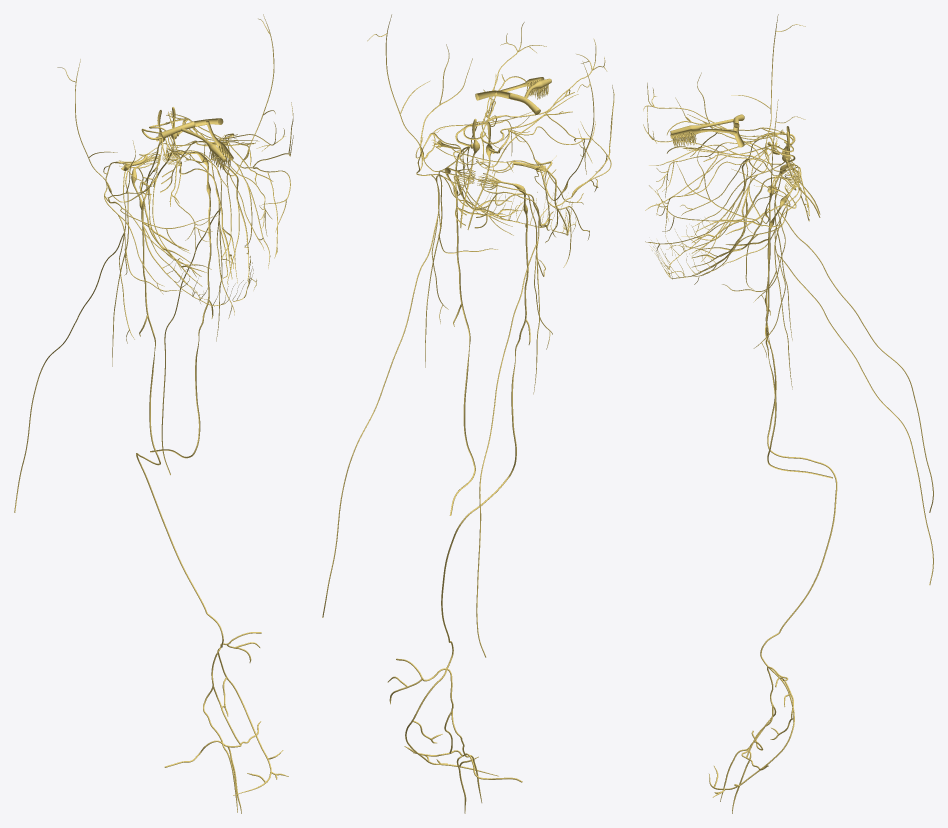
Rendered from cranial-nerves.glb.
3 views of the same model, side by side, from view 1: azimuth 30°, elevation 25°; view 2: azimuth 150°, elevation 25°; view 3: azimuth 270°, elevation 25° (orthographic). The views are drawn at different scales.
Parts seen in each view (by area): view 1: ZA_vagus_nerve_x_r, ZA_facial_nerve_vii_r, ZA_vagus_nerve_x_l, ZA_facial_nerve_vii_l, ZA_accessory_nerve_xi_r, ZA_accessory_nerve_xi_l, ZA_olfactory_nerve_i_r; view 2: ZA_vagus_nerve_x_r, ZA_accessory_nerve_xi_r, ZA_accessory_nerve_xi_l, ZA_vagus_nerve_x_l, ZA_facial_nerve_vii_l, ZA_facial_nerve_vii_r, ZA_olfactory_nerve_i_r, ZA_glossopharyngeal_nerve_ix_l; view 3: ZA_vagus_nerve_x_r, ZA_facial_nerve_vii_l, ZA_accessory_nerve_xi_l, ZA_vagus_nerve_x_l, ZA_facial_nerve_vii_r, ZA_accessory_nerve_xi_r, ZA_olfactory_nerve_i_l.
Part boxes in pixels (<box>): ZA_vagus_nerve_x_r: <box>131,153,288,813</box>; ZA_facial_nerve_vii_r: <box>103,140,217,294</box>; ZA_vagus_nerve_x_l: <box>150,149,213,458</box>; ZA_facial_nerve_vii_l: <box>163,102,293,268</box>; ZA_accessory_nerve_xi_r: <box>14,162,157,512</box>; ZA_accessory_nerve_xi_l: <box>160,152,234,474</box>; ZA_olfactory_nerve_i_r: <box>160,121,226,169</box>; ZA_vagus_nerve_x_r: <box>387,173,530,813</box>; ZA_accessory_nerve_xi_r: <box>474,182,552,657</box>; ZA_accessory_nerve_xi_l: <box>322,175,473,617</box>; ZA_vagus_nerve_x_l: <box>444,167,505,515</box>; ZA_facial_nerve_vii_l: <box>415,44,532,236</box>; ZA_facial_nerve_vii_r: <box>478,85,614,267</box>; ZA_olfactory_nerve_i_r: <box>508,78,551,114</box>; ZA_glossopharyngeal_nerve_ix_l: <box>425,165,498,367</box>; ZA_vagus_nerve_x_r: <box>709,164,837,813</box>; ZA_facial_nerve_vii_l: <box>645,146,796,289</box>; ZA_accessory_nerve_xi_l: <box>753,183,933,585</box>; ZA_vagus_nerve_x_l: <box>725,176,832,478</box>; ZA_facial_nerve_vii_r: <box>645,72,795,235</box>; ZA_accessory_nerve_xi_r: <box>753,167,933,512</box>; ZA_olfactory_nerve_i_l: <box>670,123,744,147</box>.
Size of the model in its own units: 0.1477 by 0.5419 by 0.194.
